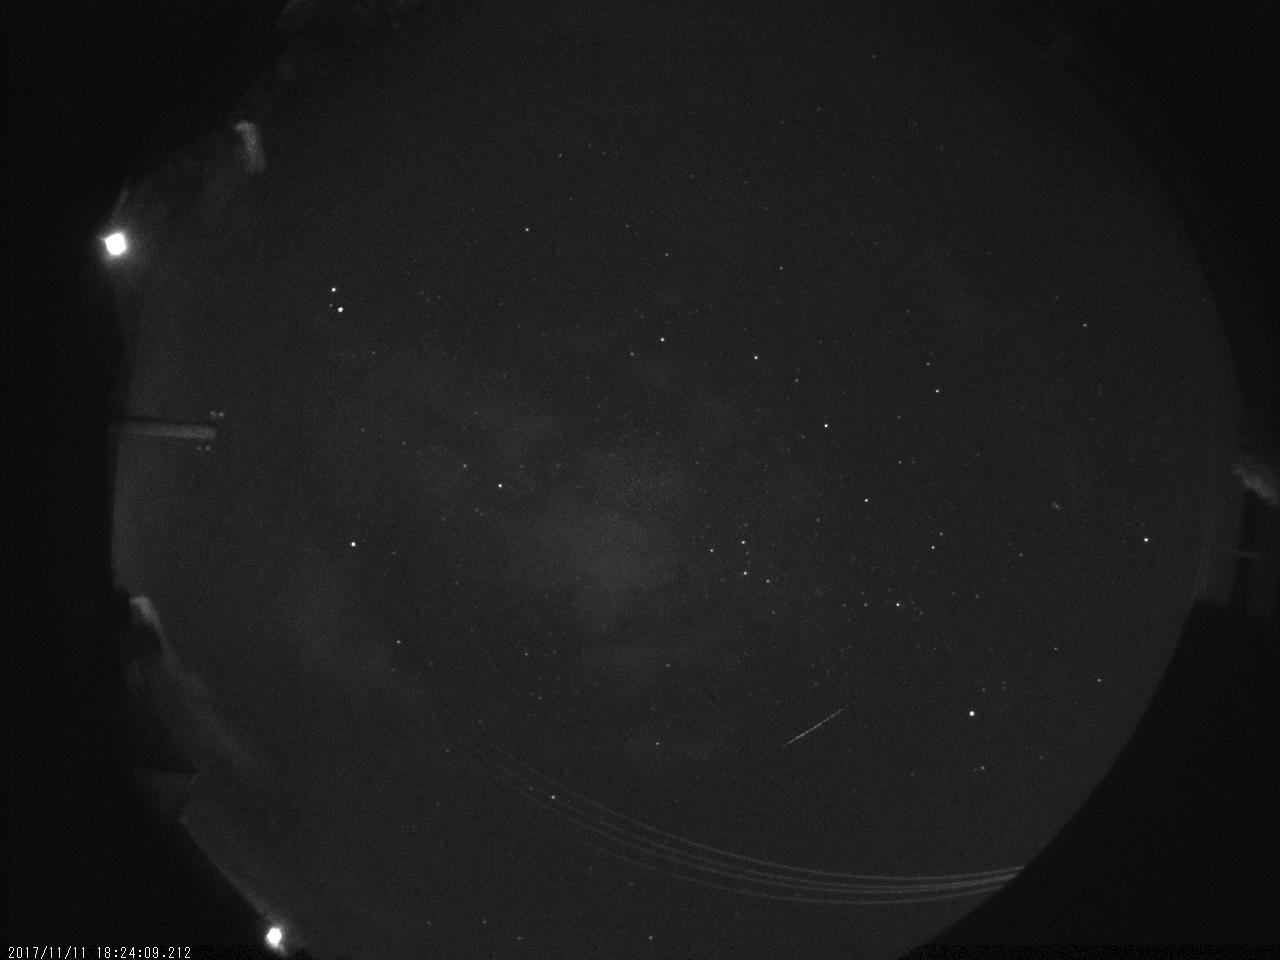meteor: (771, 691, 863, 754)
